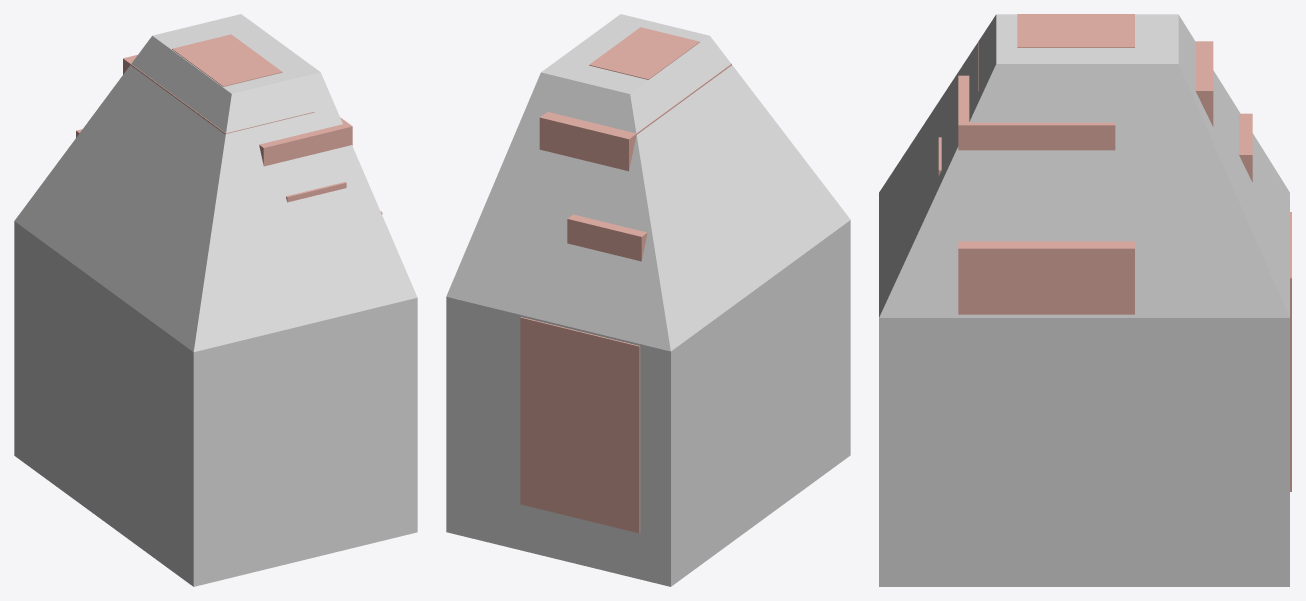
The model's file is Tree01_B1_1_01.FBX.
The picture shows the model from 3 angles, left to right: view 1: azimuth 30°, elevation 25°; view 2: azimuth 150°, elevation 25°; view 3: azimuth 270°, elevation 25°; orthographic projection. The views are drawn at different scales.
Parts seen in each view (by area): view 1: Tree1_B1_Damage_1_01, Tree1_B1_Live_1_01; view 2: Tree1_B1_Damage_1_01, Tree1_B1_Live_1_01; view 3: Tree1_B1_Damage_1_01, Tree1_B1_Live_1_01.
Part boxes in pixels (x1=…): Tree1_B1_Damage_1_01: x1=14, y1=14, x2=417, y2=586; Tree1_B1_Live_1_01: x1=76, y1=34, x2=382, y2=214; Tree1_B1_Damage_1_01: x1=446, y1=14, x2=850, y2=586; Tree1_B1_Live_1_01: x1=520, y1=27, x2=731, y2=533; Tree1_B1_Damage_1_01: x1=879, y1=14, x2=1289, y2=586; Tree1_B1_Live_1_01: x1=938, y1=14, x2=1291, y2=491.
Size of the model in its own units: 1.36 by 2.51 by 1.89.
